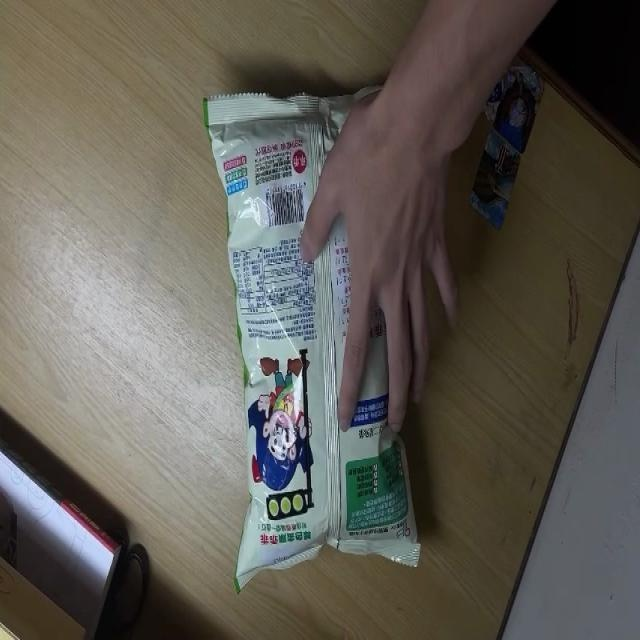Good-Luck: (201, 88, 423, 594)
